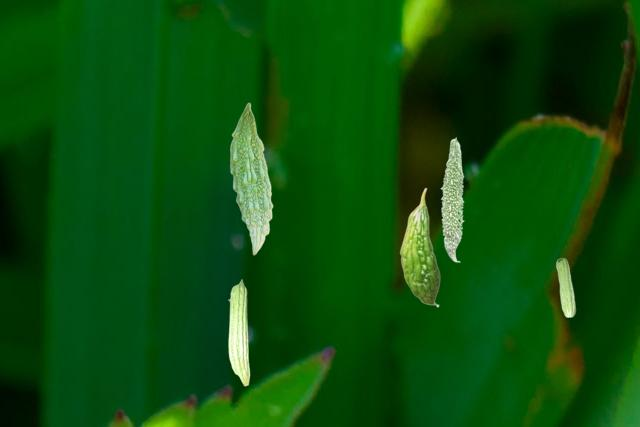ampalaya: (229, 102, 273, 255), (399, 187, 440, 307), (440, 136, 465, 262), (228, 279, 250, 386), (555, 257, 576, 318)
